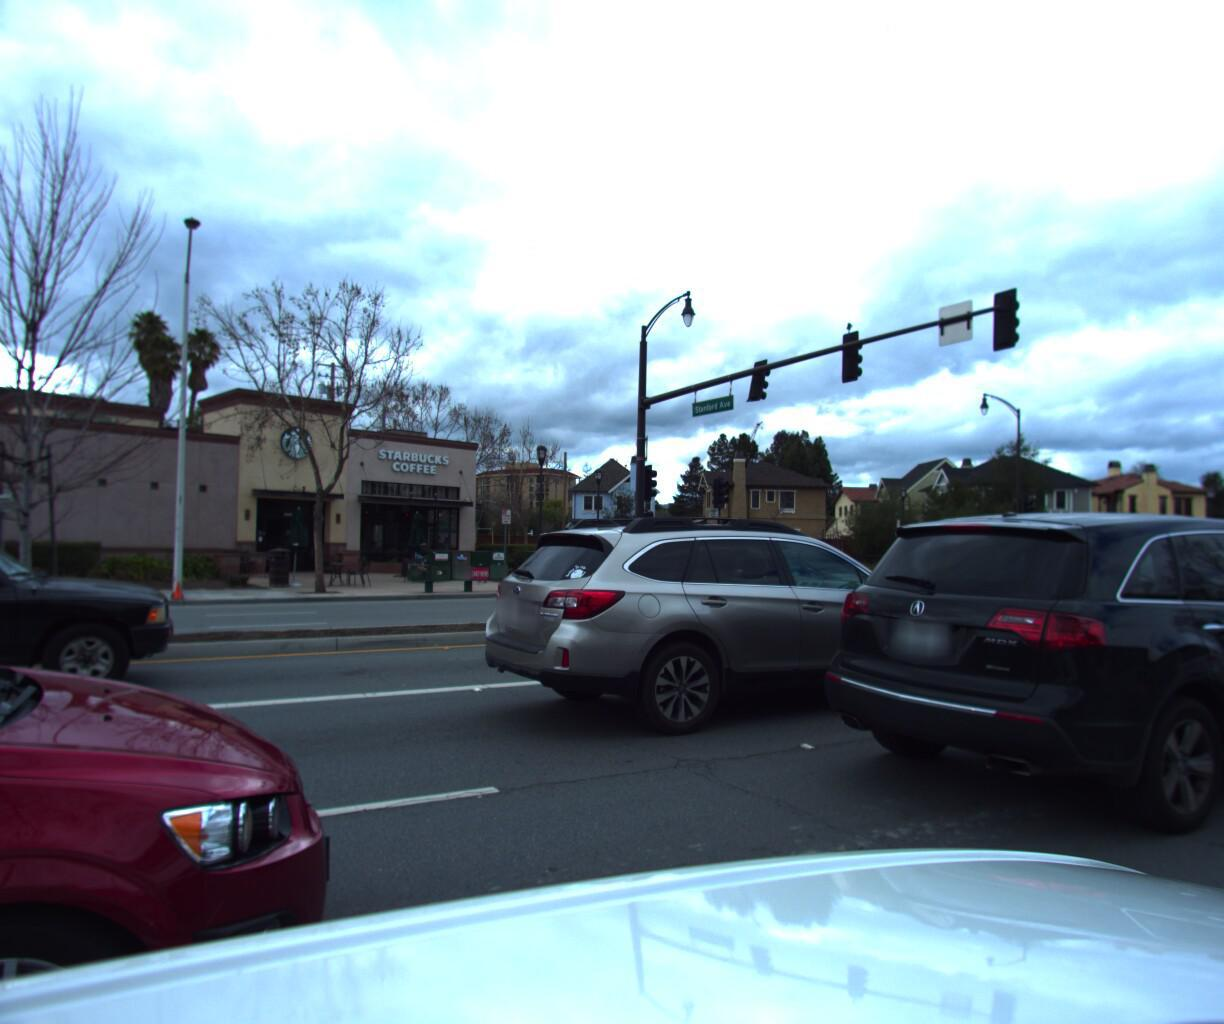car: (0, 343, 386, 1024), (790, 479, 1224, 885), (465, 502, 1004, 755), (0, 457, 188, 741), (1058, 547, 1224, 679)
